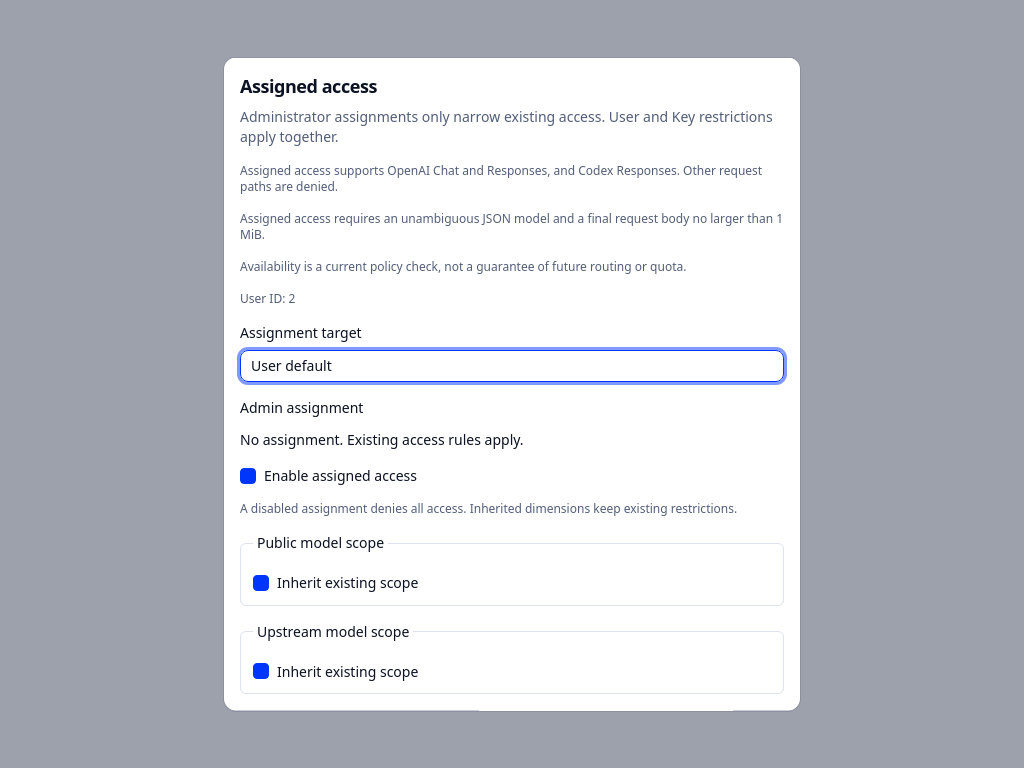
Test: a typed Key belonging to another user is rejected without exposing or saving its scope
Select "Specific Key" in the dropdown labelled "Assignment target" at (512, 366), box top-left (240, 350), bottom-right (784, 382)
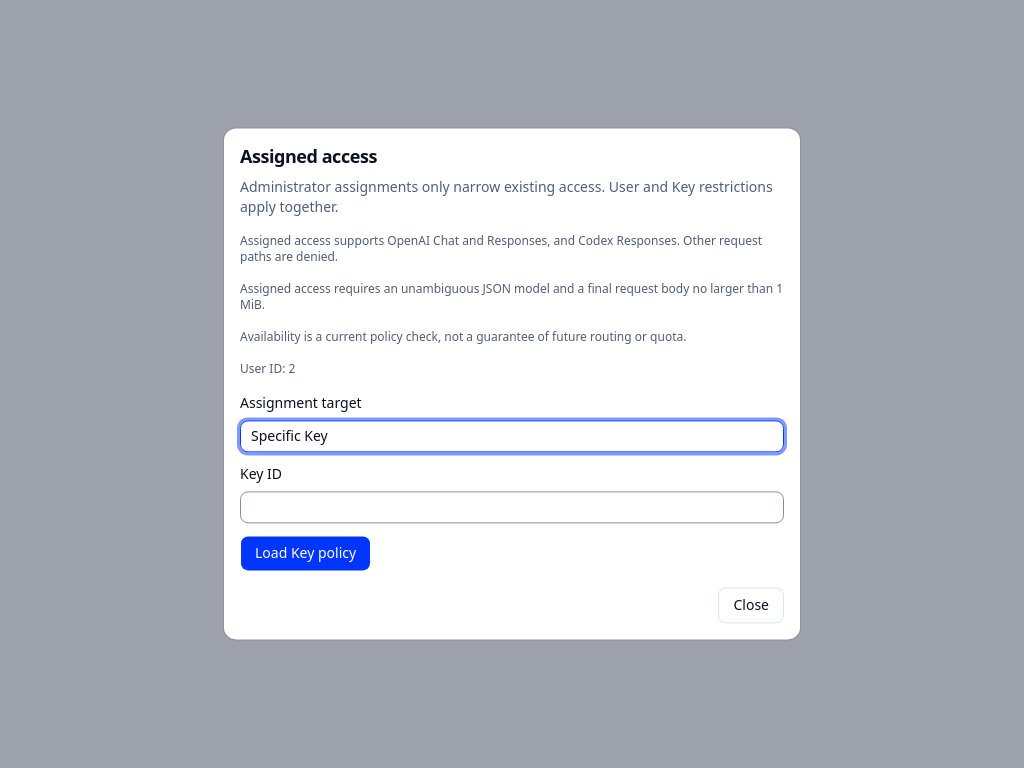
Type "99" into the field labelled "Key ID".
click(512, 508); type("99")  # box top-left (240, 492), bottom-right (784, 524)
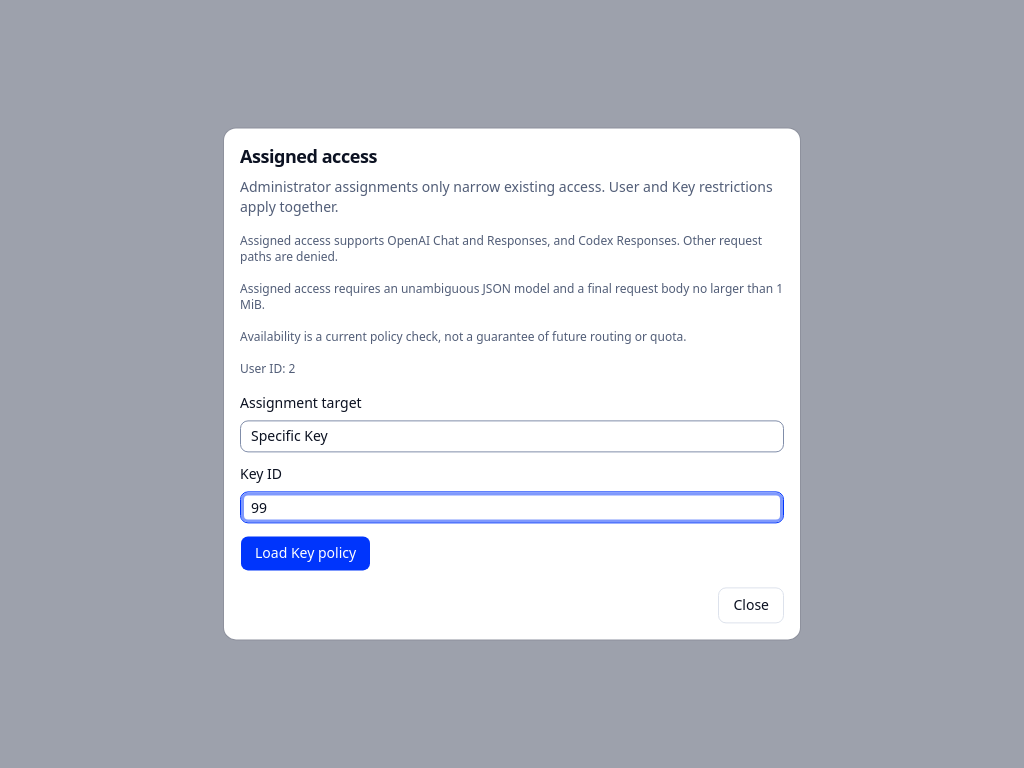
Click the button "Load Key policy".
click(306, 554)  # box top-left (240, 536), bottom-right (371, 572)
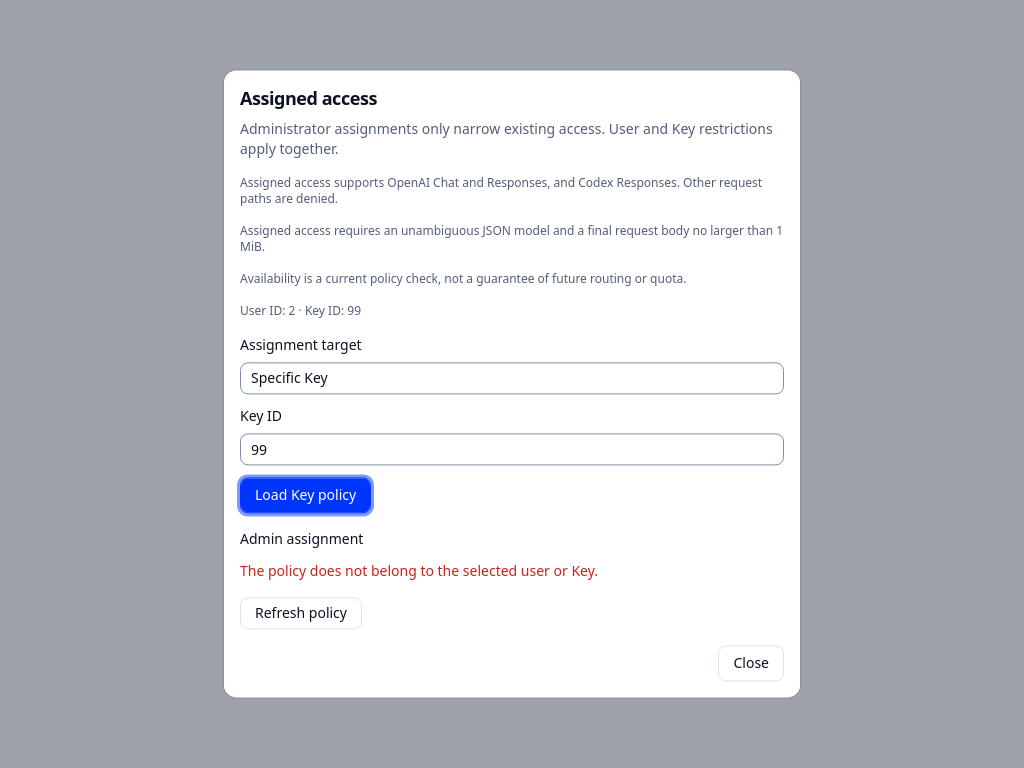
Expected: the message reads "The policy does not belong to the selected user or Key.", top-left (240, 562), bottom-right (598, 581)
